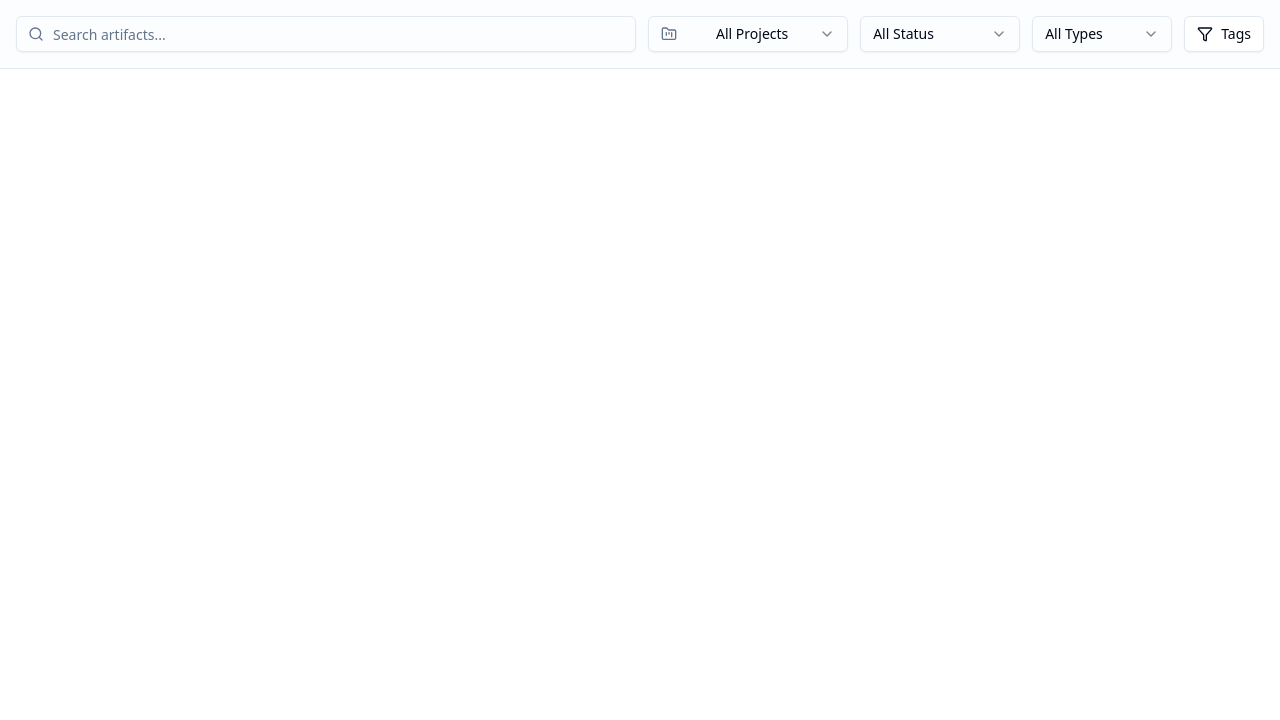
Scenario: ManagePageFilters › tags popover (shared TagFilterPopover) › shows "No tags found" when search has no matches
Click the button "Tags" at {"x": 1224, "y": 34}, box [1184,16,1264,52]
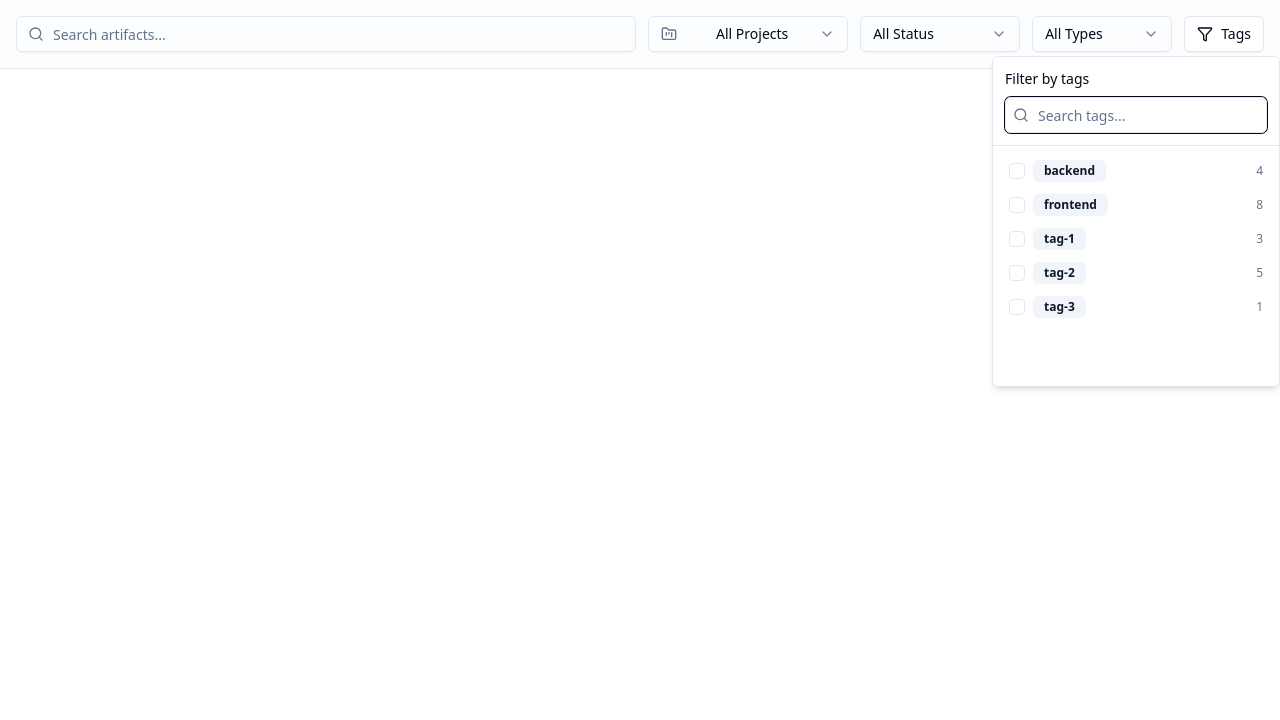
Type "nonexistent" into the field with placeholder "Search tags..." at {"x": 1136, "y": 115}, box [1005,97,1267,133]
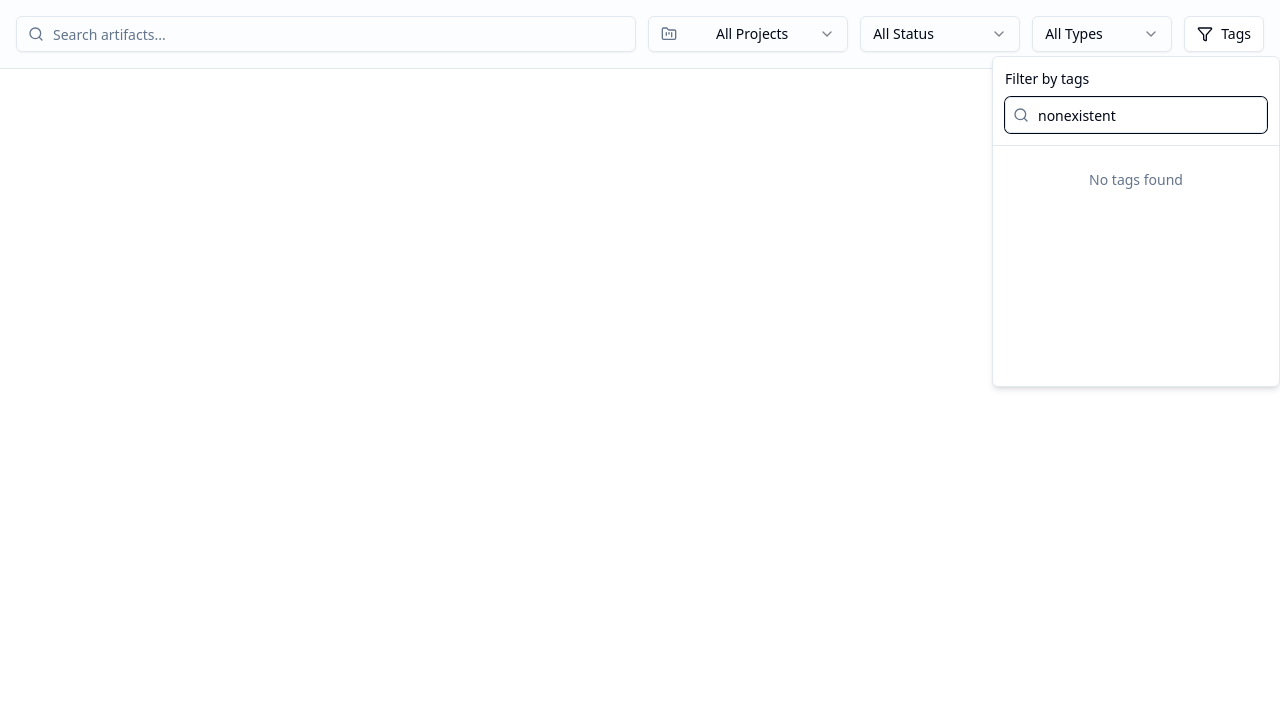
Check: the text "No tags found" is shown, box [1089,170,1183,189]
